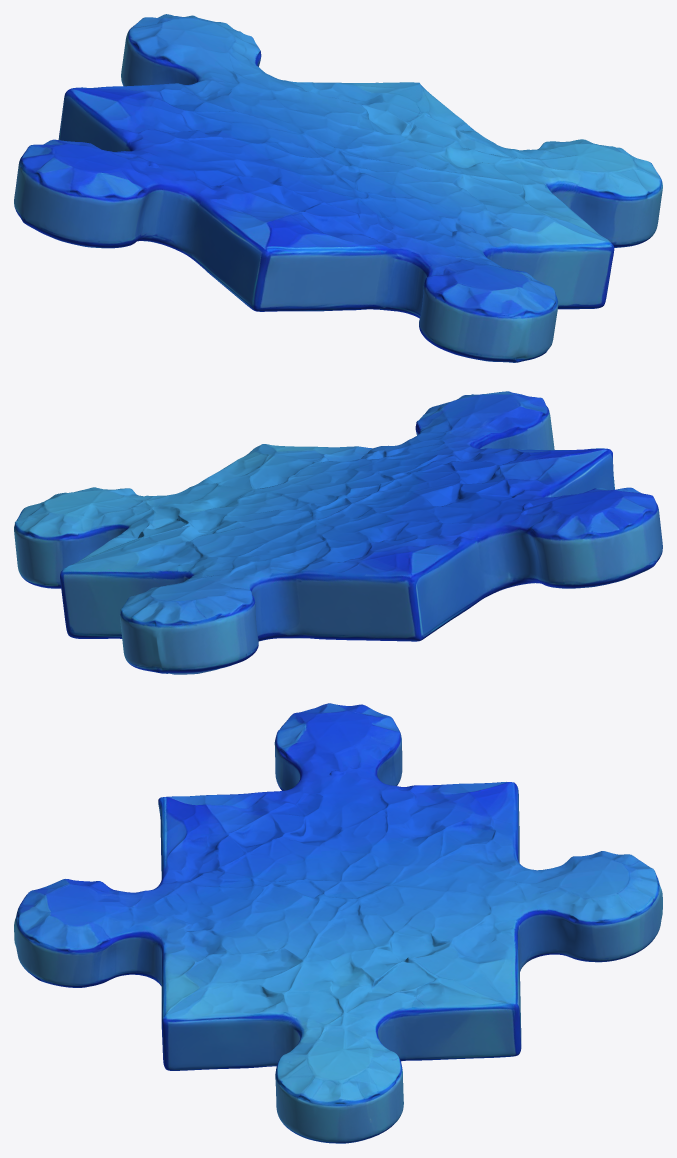
File: diamond.glb
3 views of the same model, one above another, from view 1: azimuth 30°, elevation 25°; view 2: azimuth 150°, elevation 25°; view 3: azimuth 270°, elevation 25° (orthographic). The views are drawn at different scales.
Visible parts, largest first — view 1: tripo_node_34f3681a-c015-4062-9b92-ac4ea203f107; view 2: tripo_node_34f3681a-c015-4062-9b92-ac4ea203f107; view 3: tripo_node_34f3681a-c015-4062-9b92-ac4ea203f107.
Boxes of the visible parts, x1=… form: tripo_node_34f3681a-c015-4062-9b92-ac4ea203f107: x1=14, y1=14, x2=662, y2=362; tripo_node_34f3681a-c015-4062-9b92-ac4ea203f107: x1=14, y1=391, x2=662, y2=674; tripo_node_34f3681a-c015-4062-9b92-ac4ea203f107: x1=14, y1=703, x2=662, y2=1143.
Size of the model in its own units: 0.9784 by 0.3049 by 0.9786.
1 material, 1 textured.
